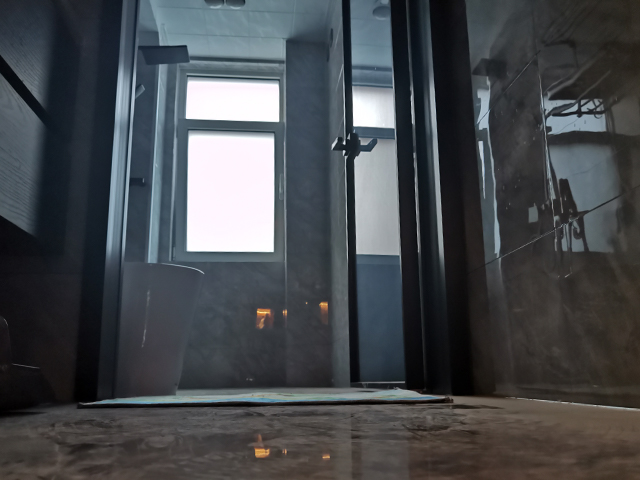carpet: (75, 385, 454, 411)
closestool: (113, 261, 207, 400)
